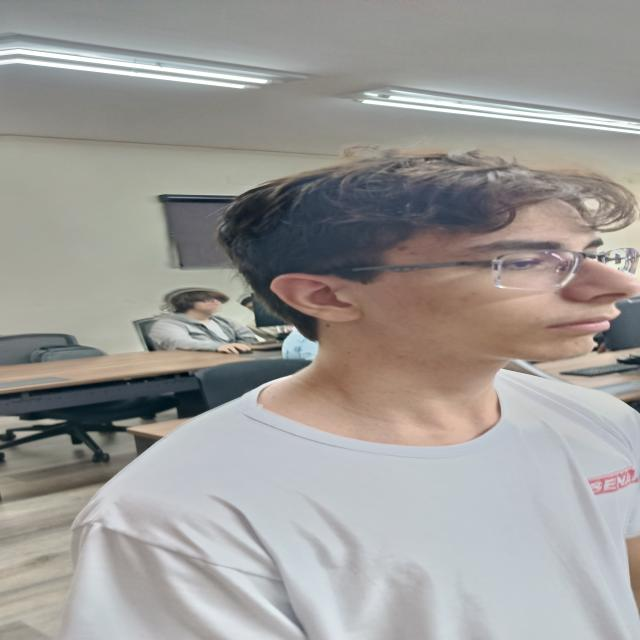sem_oculos: (336, 248, 640, 290), (188, 298, 225, 304)
